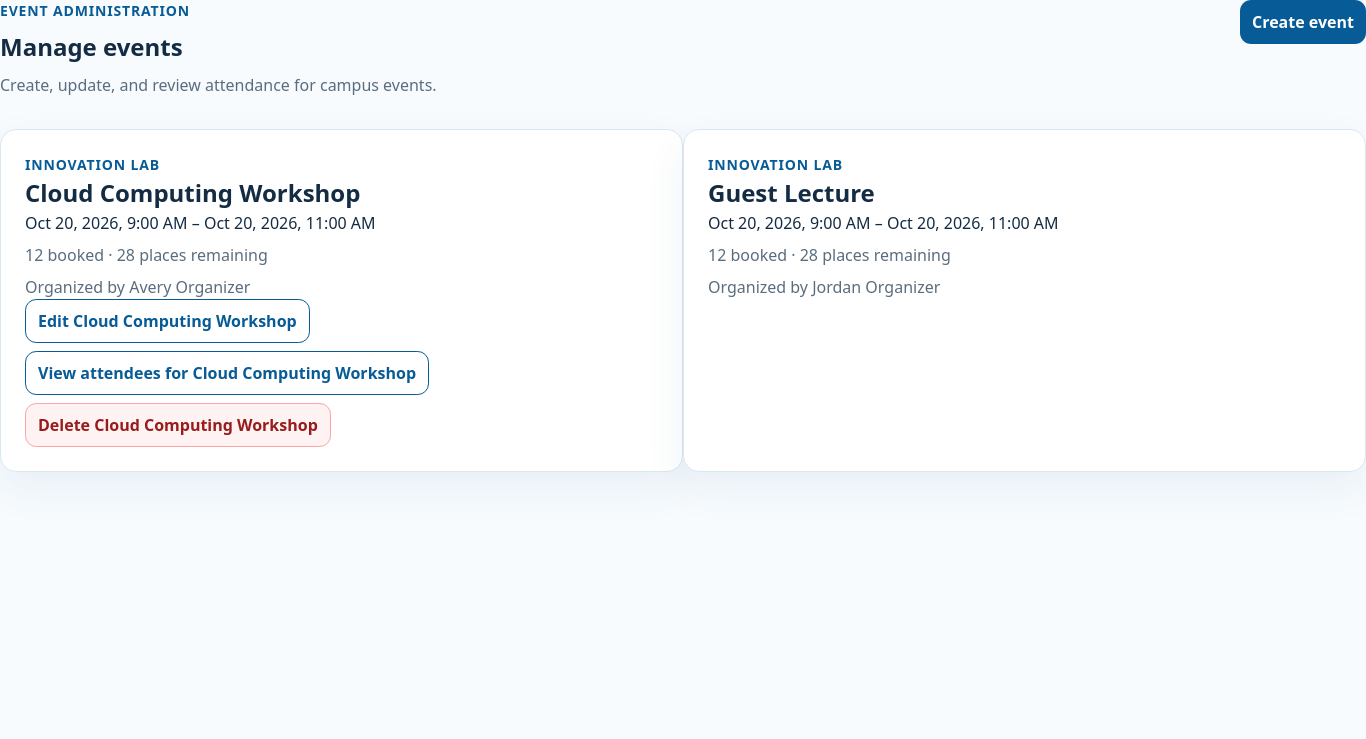
Test case: ManageEventsPage › edits an owned event and sends the updated form values
Check: the heading "Cloud Computing Workshop" is shown, box [25,176,360,209]
Click the button "Edit Cloud Computing Workshop" at coordinates (167, 321), box [25,299,310,343]
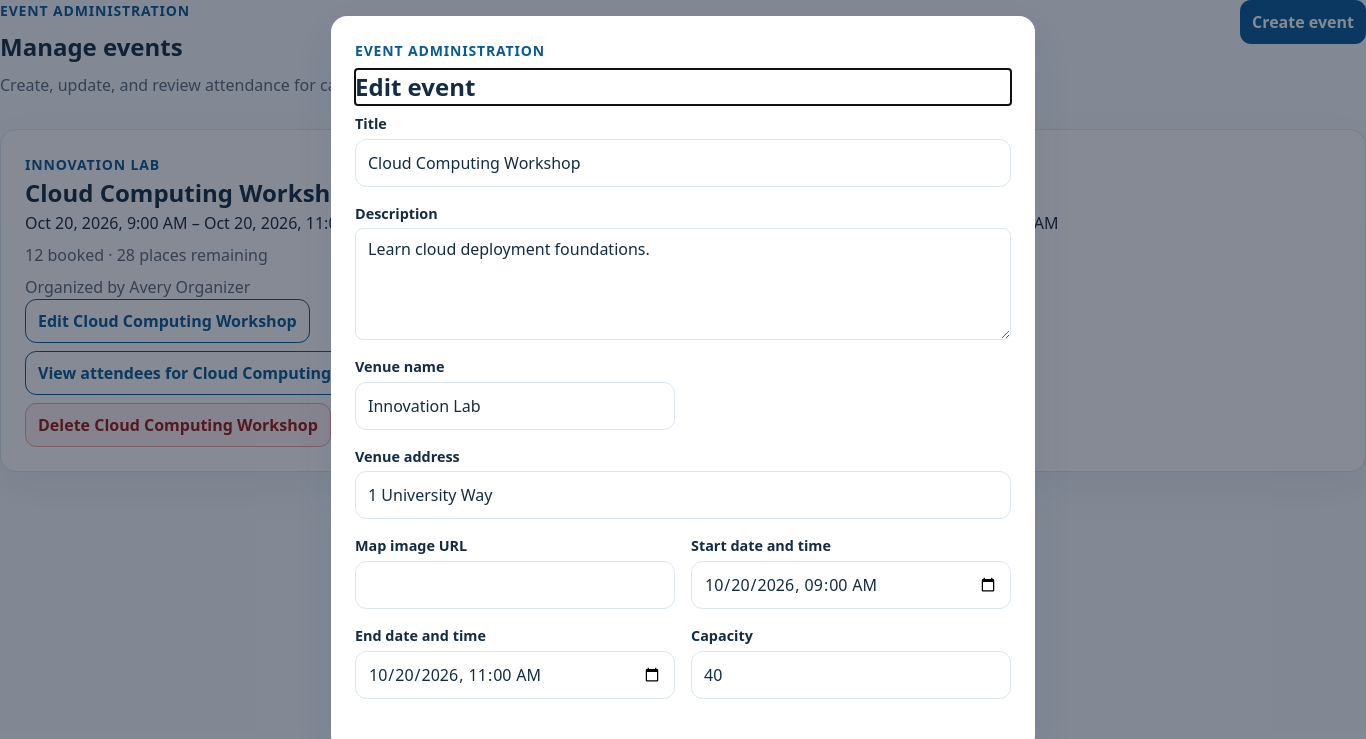
Replace the text in the field labelled "Title" with "Updated workshop" at coordinates (683, 163), box [355,139,1011,187]
(page scrolled)
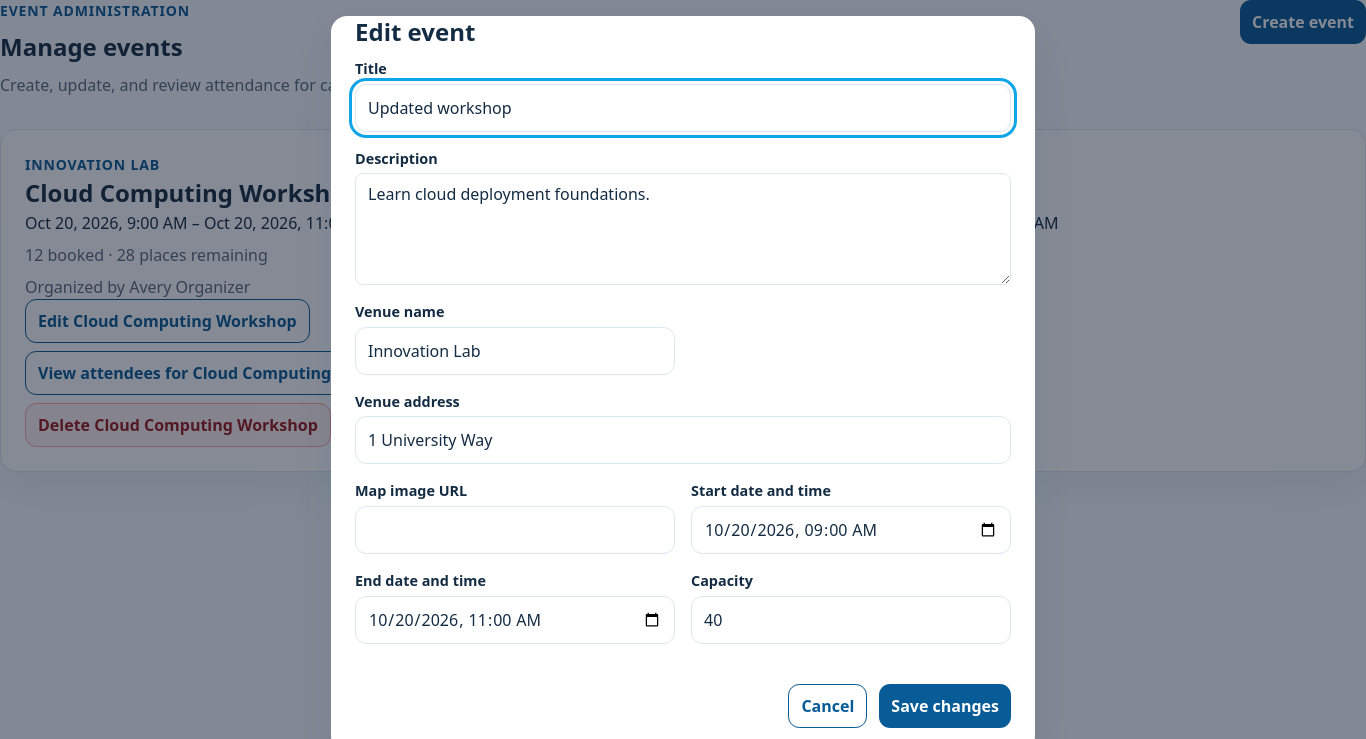
Click the button "Save changes" at coordinates (945, 706), box [879,684,1011,728]
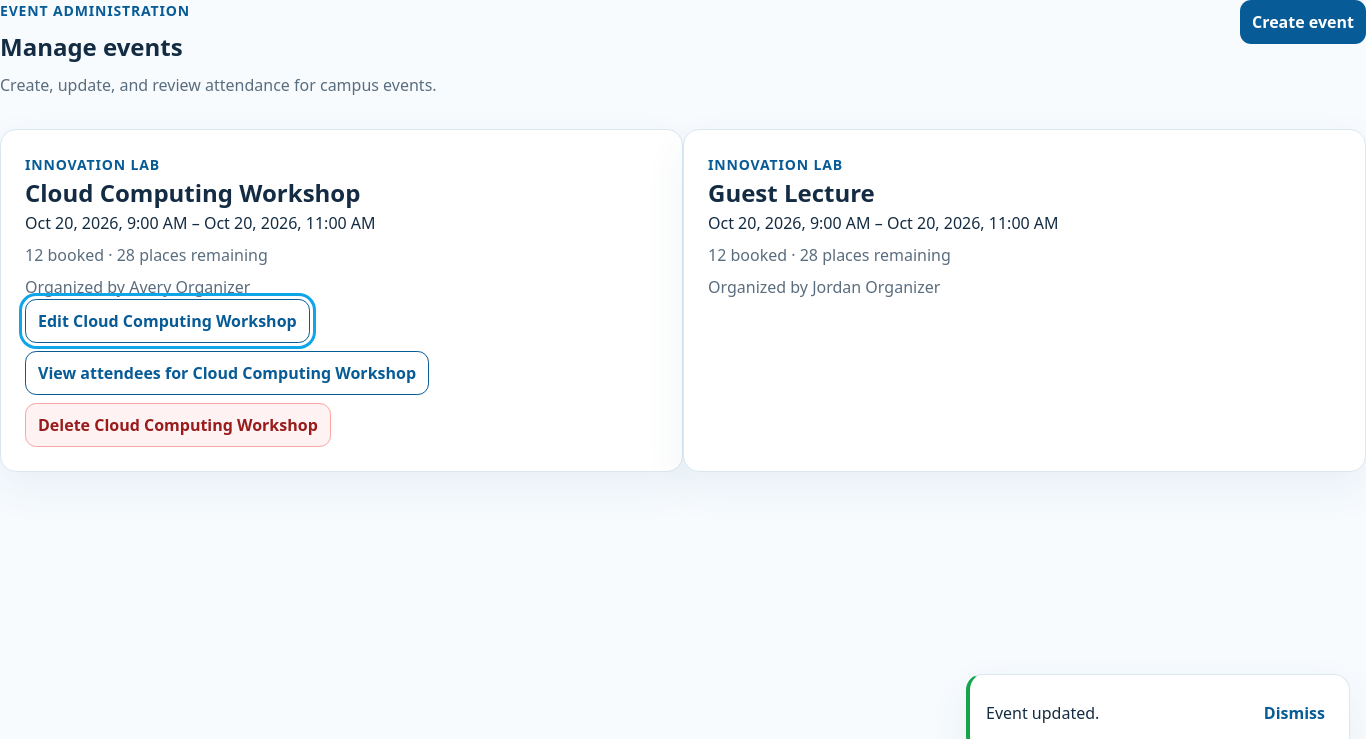
Check: the text "Event updated." is shown, box [986,701,1099,725]
